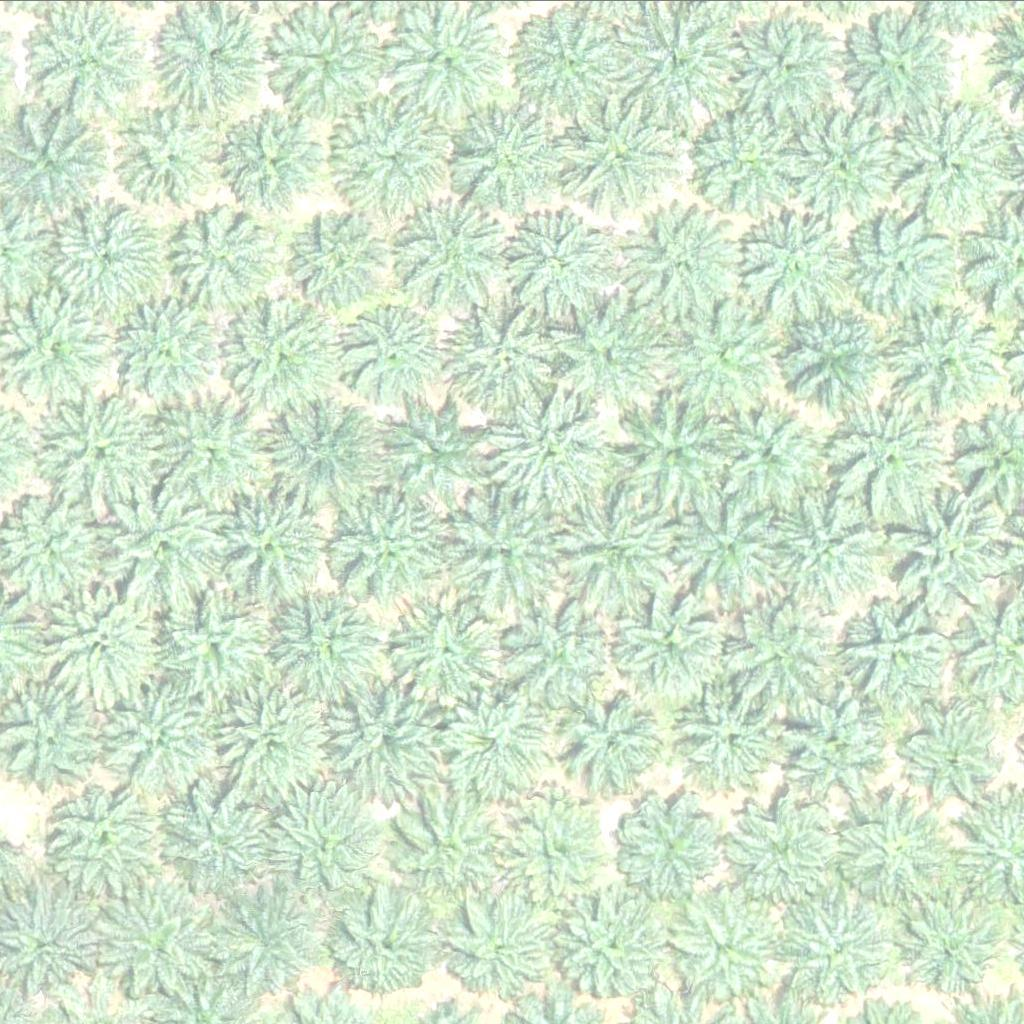Kelapa_Sawit: (47, 771, 173, 896), (47, 565, 173, 690), (329, 92, 455, 217), (451, 93, 577, 218), (563, 93, 689, 218), (105, 286, 231, 411), (442, 298, 568, 423), (553, 290, 679, 415), (488, 394, 614, 519), (258, 390, 384, 515), (151, 394, 277, 519), (43, 387, 169, 512), (101, 482, 227, 607), (204, 486, 330, 611), (323, 486, 449, 611), (443, 488, 569, 613), (558, 498, 684, 623), (93, 877, 219, 1002), (666, 482, 792, 607), (760, 484, 886, 609), (895, 489, 1021, 614), (605, 392, 731, 517), (704, 388, 830, 513), (825, 392, 951, 517), (660, 300, 786, 425), (742, 206, 868, 331), (619, 203, 745, 328), (782, 96, 908, 221), (890, 97, 1016, 222), (382, 1, 507, 126), (45, 192, 170, 317), (688, 96, 813, 221), (159, 586, 273, 699), (267, 586, 381, 699), (892, 300, 1006, 413), (173, 203, 286, 316), (393, 791, 506, 904), (499, 797, 612, 910), (560, 885, 673, 998), (444, 895, 557, 1008), (328, 885, 441, 998), (210, 880, 323, 993), (610, 787, 723, 900), (680, 679, 793, 792), (725, 792, 838, 905), (838, 792, 951, 905), (776, 694, 889, 807), (780, 297, 893, 410), (846, 13, 959, 126), (732, 12, 845, 125), (219, 684, 333, 796), (108, 680, 222, 792), (727, 601, 841, 713), (160, 2, 273, 114), (115, 100, 228, 212), (503, 212, 616, 324), (397, 196, 510, 308), (232, 299, 345, 411), (389, 593, 502, 705), (505, 594, 618, 706), (558, 687, 671, 799), (434, 687, 547, 799), (332, 680, 445, 792), (166, 788, 279, 900), (267, 789, 380, 901), (614, 586, 727, 698), (676, 888, 789, 1000), (783, 892, 896, 1004), (840, 599, 953, 711), (850, 208, 963, 320), (225, 112, 326, 212), (291, 208, 392, 308), (341, 303, 442, 403), (904, 896, 1005, 996), (904, 708, 1005, 808), (382, 401, 482, 501)
